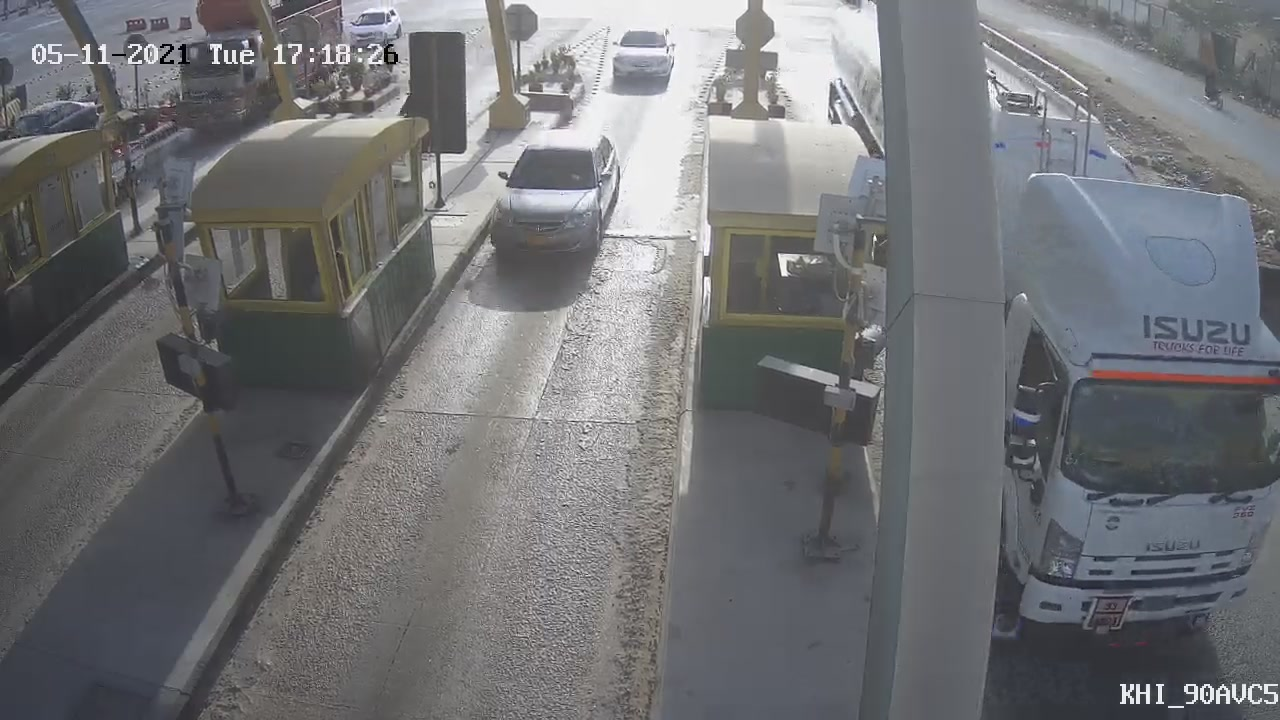F1: (469, 112, 634, 294)
